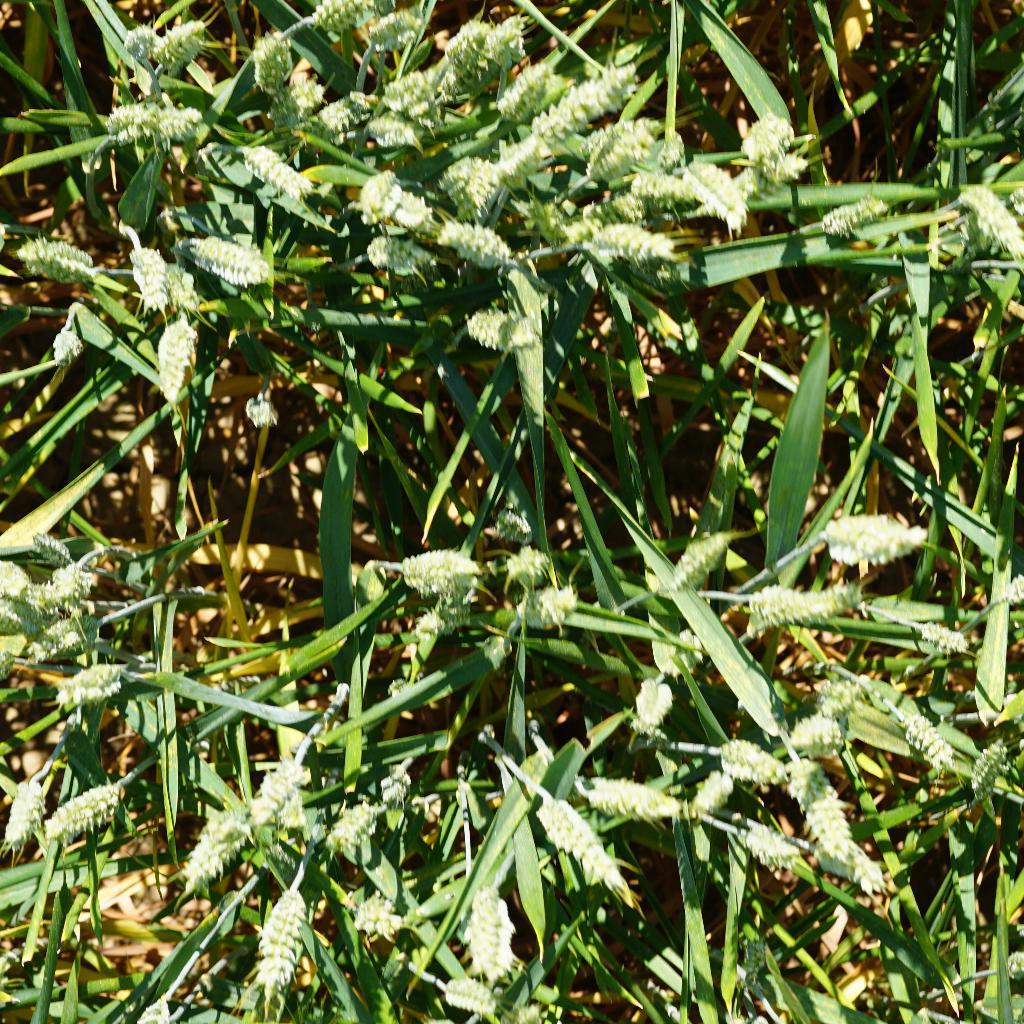0-0: (777, 750, 886, 896), (799, 494, 941, 567), (531, 800, 627, 905), (171, 788, 258, 899), (523, 68, 643, 145), (167, 232, 281, 307), (436, 14, 544, 92), (254, 874, 316, 1005), (219, 137, 320, 212), (739, 568, 862, 626), (574, 769, 692, 828), (871, 707, 963, 778), (391, 538, 489, 604), (44, 776, 133, 848), (12, 219, 104, 288), (148, 313, 220, 400), (478, 60, 579, 122), (460, 881, 522, 979), (489, 126, 576, 194), (503, 182, 575, 264), (950, 179, 1024, 258), (419, 213, 520, 269), (232, 27, 307, 101), (580, 119, 665, 183), (246, 744, 309, 830), (808, 182, 897, 242), (49, 657, 142, 714), (337, 232, 440, 283), (0, 769, 55, 864), (657, 524, 724, 600), (680, 159, 751, 230), (731, 821, 808, 886), (122, 252, 203, 313), (896, 615, 979, 673), (301, 90, 382, 147), (118, 240, 182, 310), (357, 176, 438, 231), (22, 606, 116, 653), (617, 669, 692, 727), (428, 152, 499, 213), (381, 68, 458, 124), (574, 223, 684, 262), (712, 737, 795, 788), (488, 541, 567, 593), (260, 72, 328, 132), (300, 0, 423, 33), (356, 5, 434, 57), (145, 7, 201, 78), (144, 85, 210, 145), (363, 101, 429, 159), (464, 305, 541, 354), (11, 567, 100, 609), (740, 96, 799, 159), (329, 795, 385, 860), (347, 882, 407, 942), (101, 94, 163, 150), (960, 742, 1016, 803), (511, 585, 575, 635), (787, 712, 848, 761), (441, 972, 500, 1021), (616, 174, 698, 209), (232, 381, 284, 436), (680, 762, 735, 813), (802, 675, 867, 718), (22, 523, 79, 570), (414, 598, 473, 643), (477, 497, 534, 539), (757, 145, 811, 186), (979, 563, 1024, 612), (45, 320, 89, 369), (120, 18, 159, 66), (735, 934, 771, 984)
